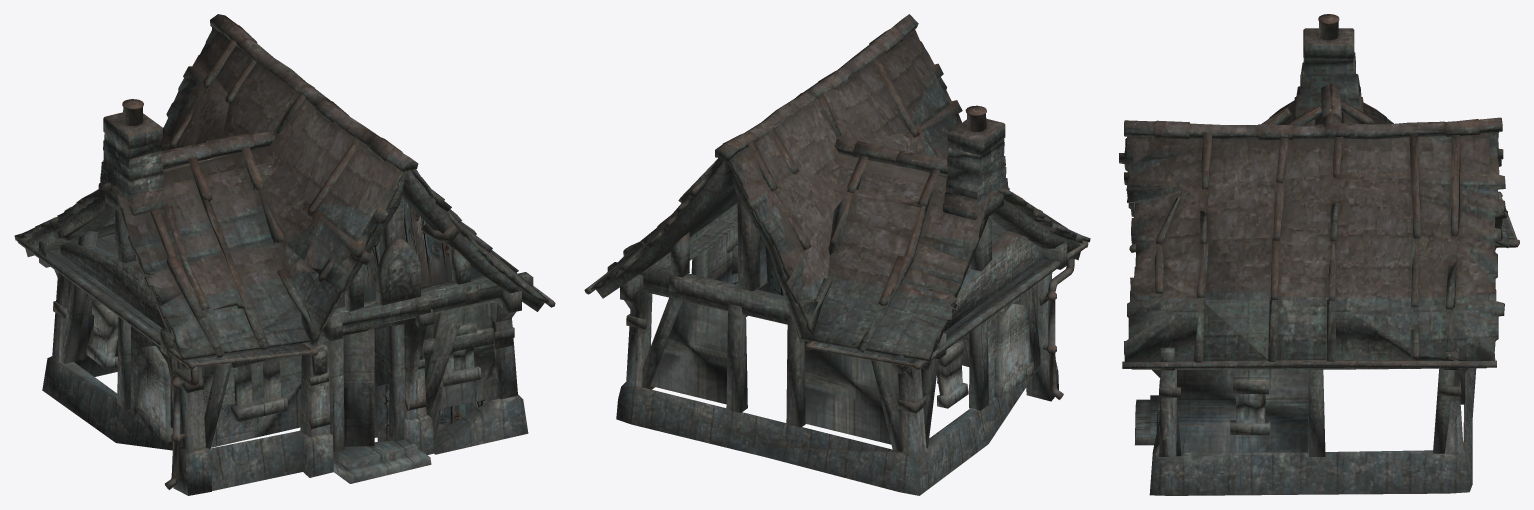
Rendered from home.glb.
3 renders of one model, left to right at view 1: azimuth 30°, elevation 25°; view 2: azimuth 150°, elevation 25°; view 3: azimuth 270°, elevation 25°, orthographic. The views are drawn at different scales.
Visible parts, largest first — view 1: tripo_node_f2df5c5d-b6a7-4d1a-895e-3c0232995d81, Front gable infill, Front lower wall infill; view 2: tripo_node_f2df5c5d-b6a7-4d1a-895e-3c0232995d81; view 3: tripo_node_f2df5c5d-b6a7-4d1a-895e-3c0232995d81.
Part boxes in pixels (x1,y1,x2,y2): tripo_node_f2df5c5d-b6a7-4d1a-895e-3c0232995d81: (14,14,555,495); Front gable infill: (336,200,480,308); Front lower wall infill: (377,383,499,441); tripo_node_f2df5c5d-b6a7-4d1a-895e-3c0232995d81: (584,14,1090,495); tripo_node_f2df5c5d-b6a7-4d1a-895e-3c0232995d81: (1119,14,1519,495).
Size of the model in its own units: 6 by 5.48 by 6.
2 materials, 2 textured.
